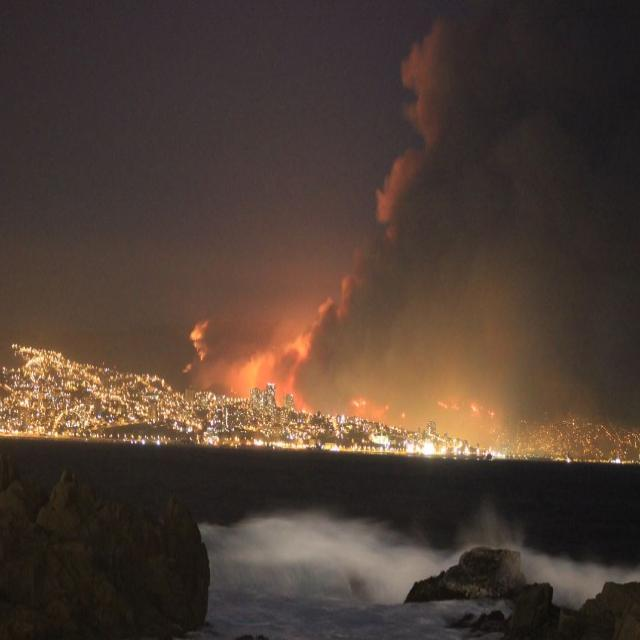Fire: (231, 340, 303, 402), (185, 316, 212, 370), (351, 396, 388, 418), (438, 398, 459, 408), (472, 400, 486, 413), (490, 411, 495, 418), (402, 411, 407, 418)
Smoke: (494, 0, 640, 425), (378, 0, 495, 400), (301, 244, 378, 406)
